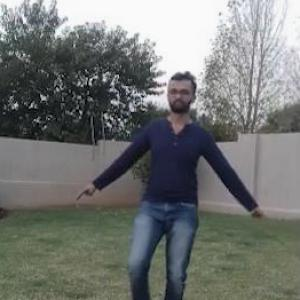land: (57, 69, 268, 299)
